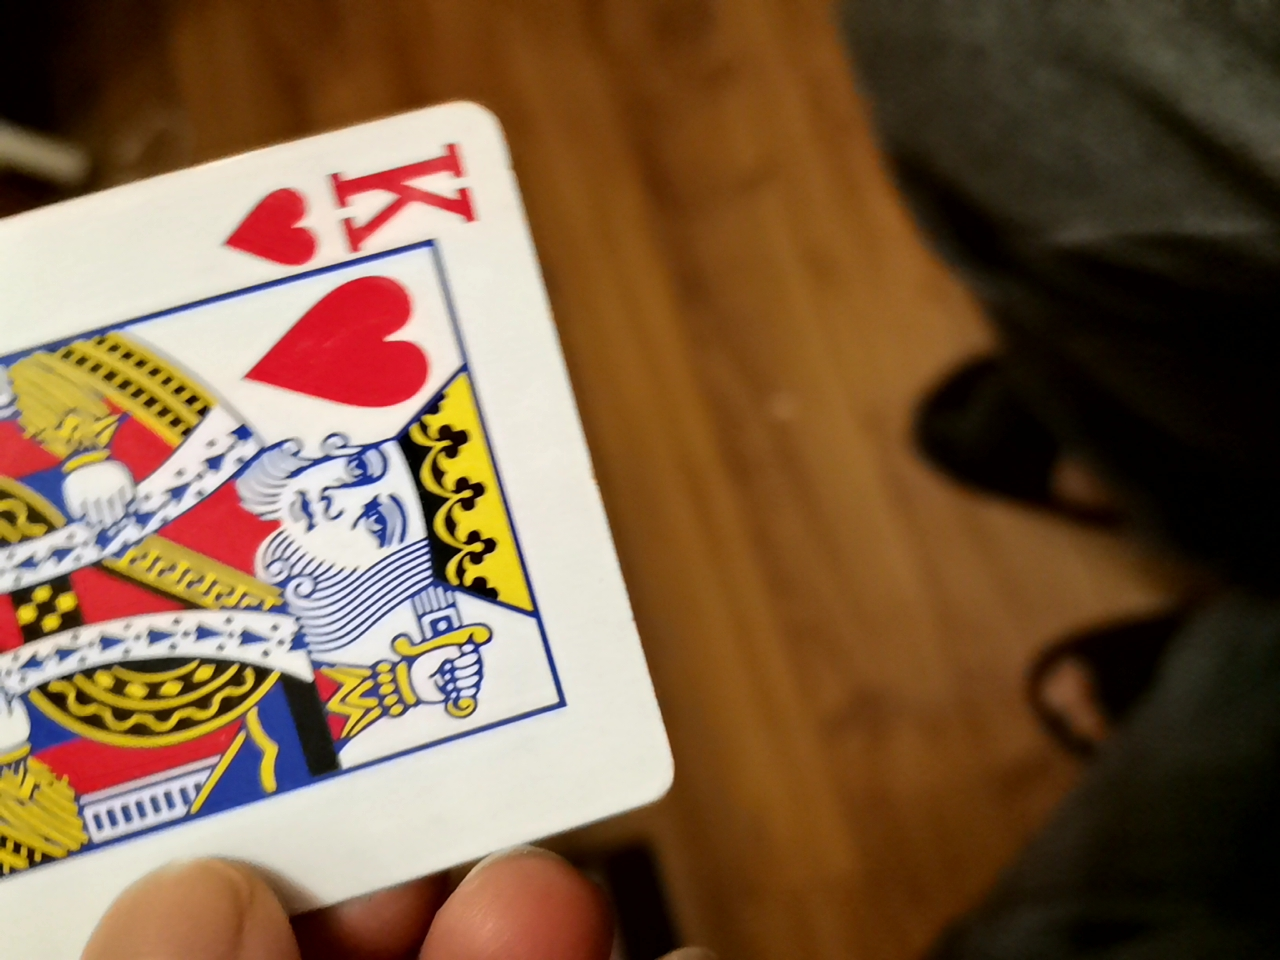hx k: (9, 101, 682, 954)
